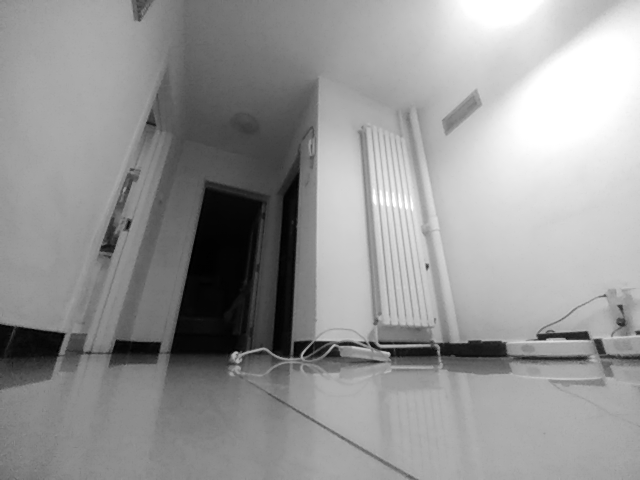power strip: (337, 340, 391, 364)
wire: (227, 326, 337, 370)
